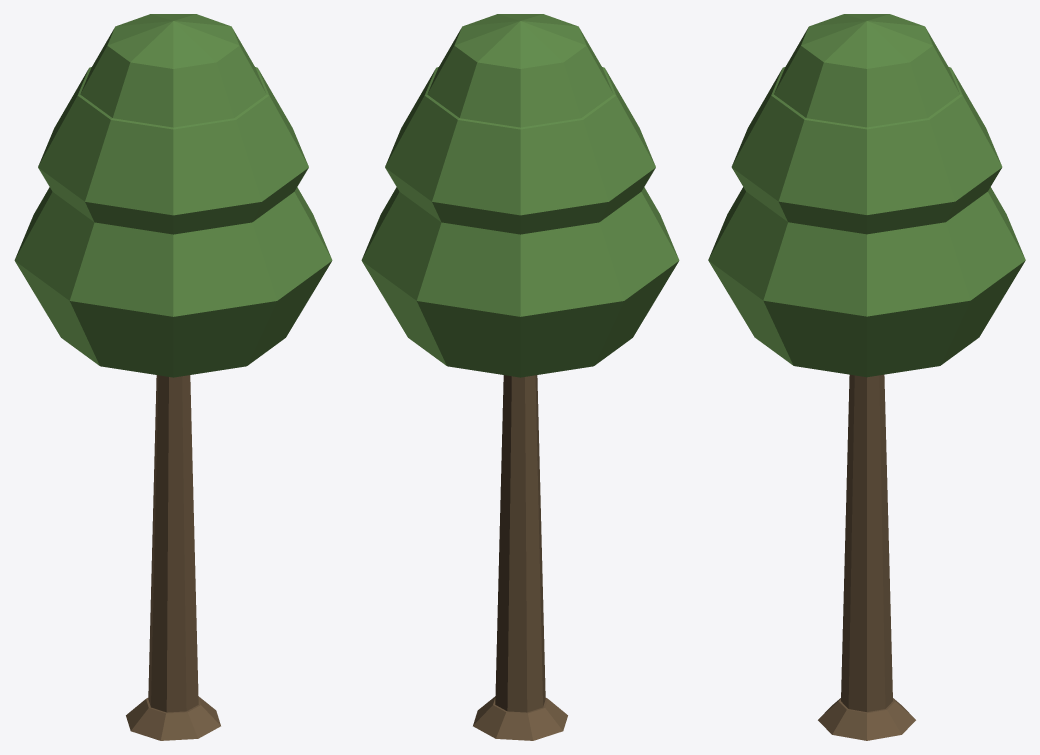
File: tree_tall.glb
3 renders of one model, left to right at view 1: azimuth 30°, elevation 25°; view 2: azimuth 150°, elevation 25°; view 3: azimuth 270°, elevation 25°, orthographic.
Visible parts, largest first — view 1: SM_ENV_tree_tall; view 2: SM_ENV_tree_tall; view 3: SM_ENV_tree_tall.
Boxes of the visible parts, <box> form: SM_ENV_tree_tall: <box>14,14,332,740</box>; SM_ENV_tree_tall: <box>361,14,679,740</box>; SM_ENV_tree_tall: <box>708,14,1025,740</box>.
Size of the model in its own units: 3.3 by 8.13 by 3.35.
